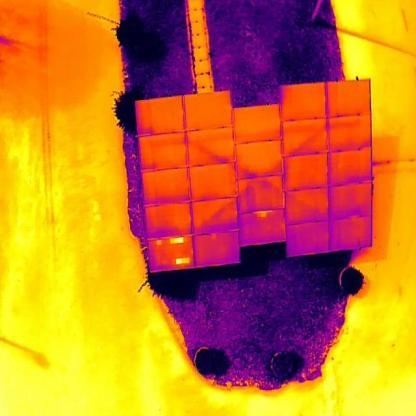anomaly: (174, 257, 192, 266), (168, 236, 186, 245), (249, 210, 272, 217), (155, 239, 163, 245)
